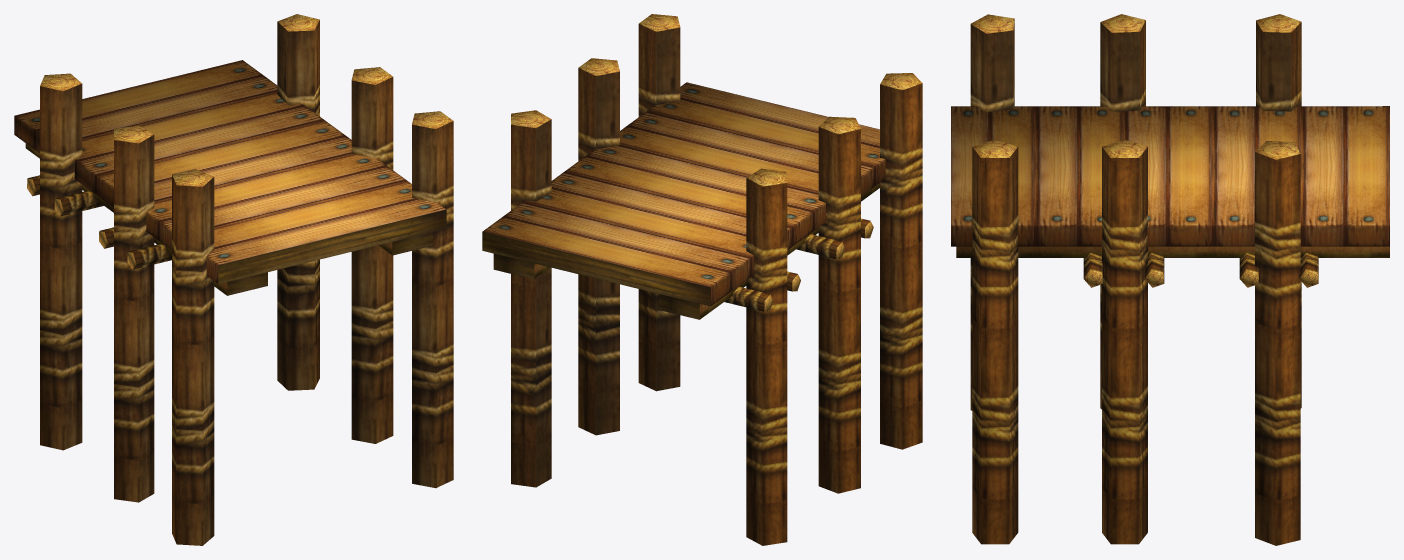
Rendered from a_SEferry02.glb.
The picture shows the model from 3 angles, left to right: view 1: azimuth 30°, elevation 25°; view 2: azimuth 150°, elevation 25°; view 3: azimuth 270°, elevation 25°; orthographic projection. The views are drawn at different scales.
Visible parts, largest first — view 1: a_SEferry02; view 2: a_SEferry02; view 3: a_SEferry02.
Part boxes in pixels (box(x1,y1,x2,y2)): a_SEferry02: box(14, 14, 453, 545); a_SEferry02: box(482, 14, 922, 545); a_SEferry02: box(951, 14, 1389, 545).
Bounding box in the file's own units: 2.43 × 3 × 3.09.
3 materials, 3 textured.
